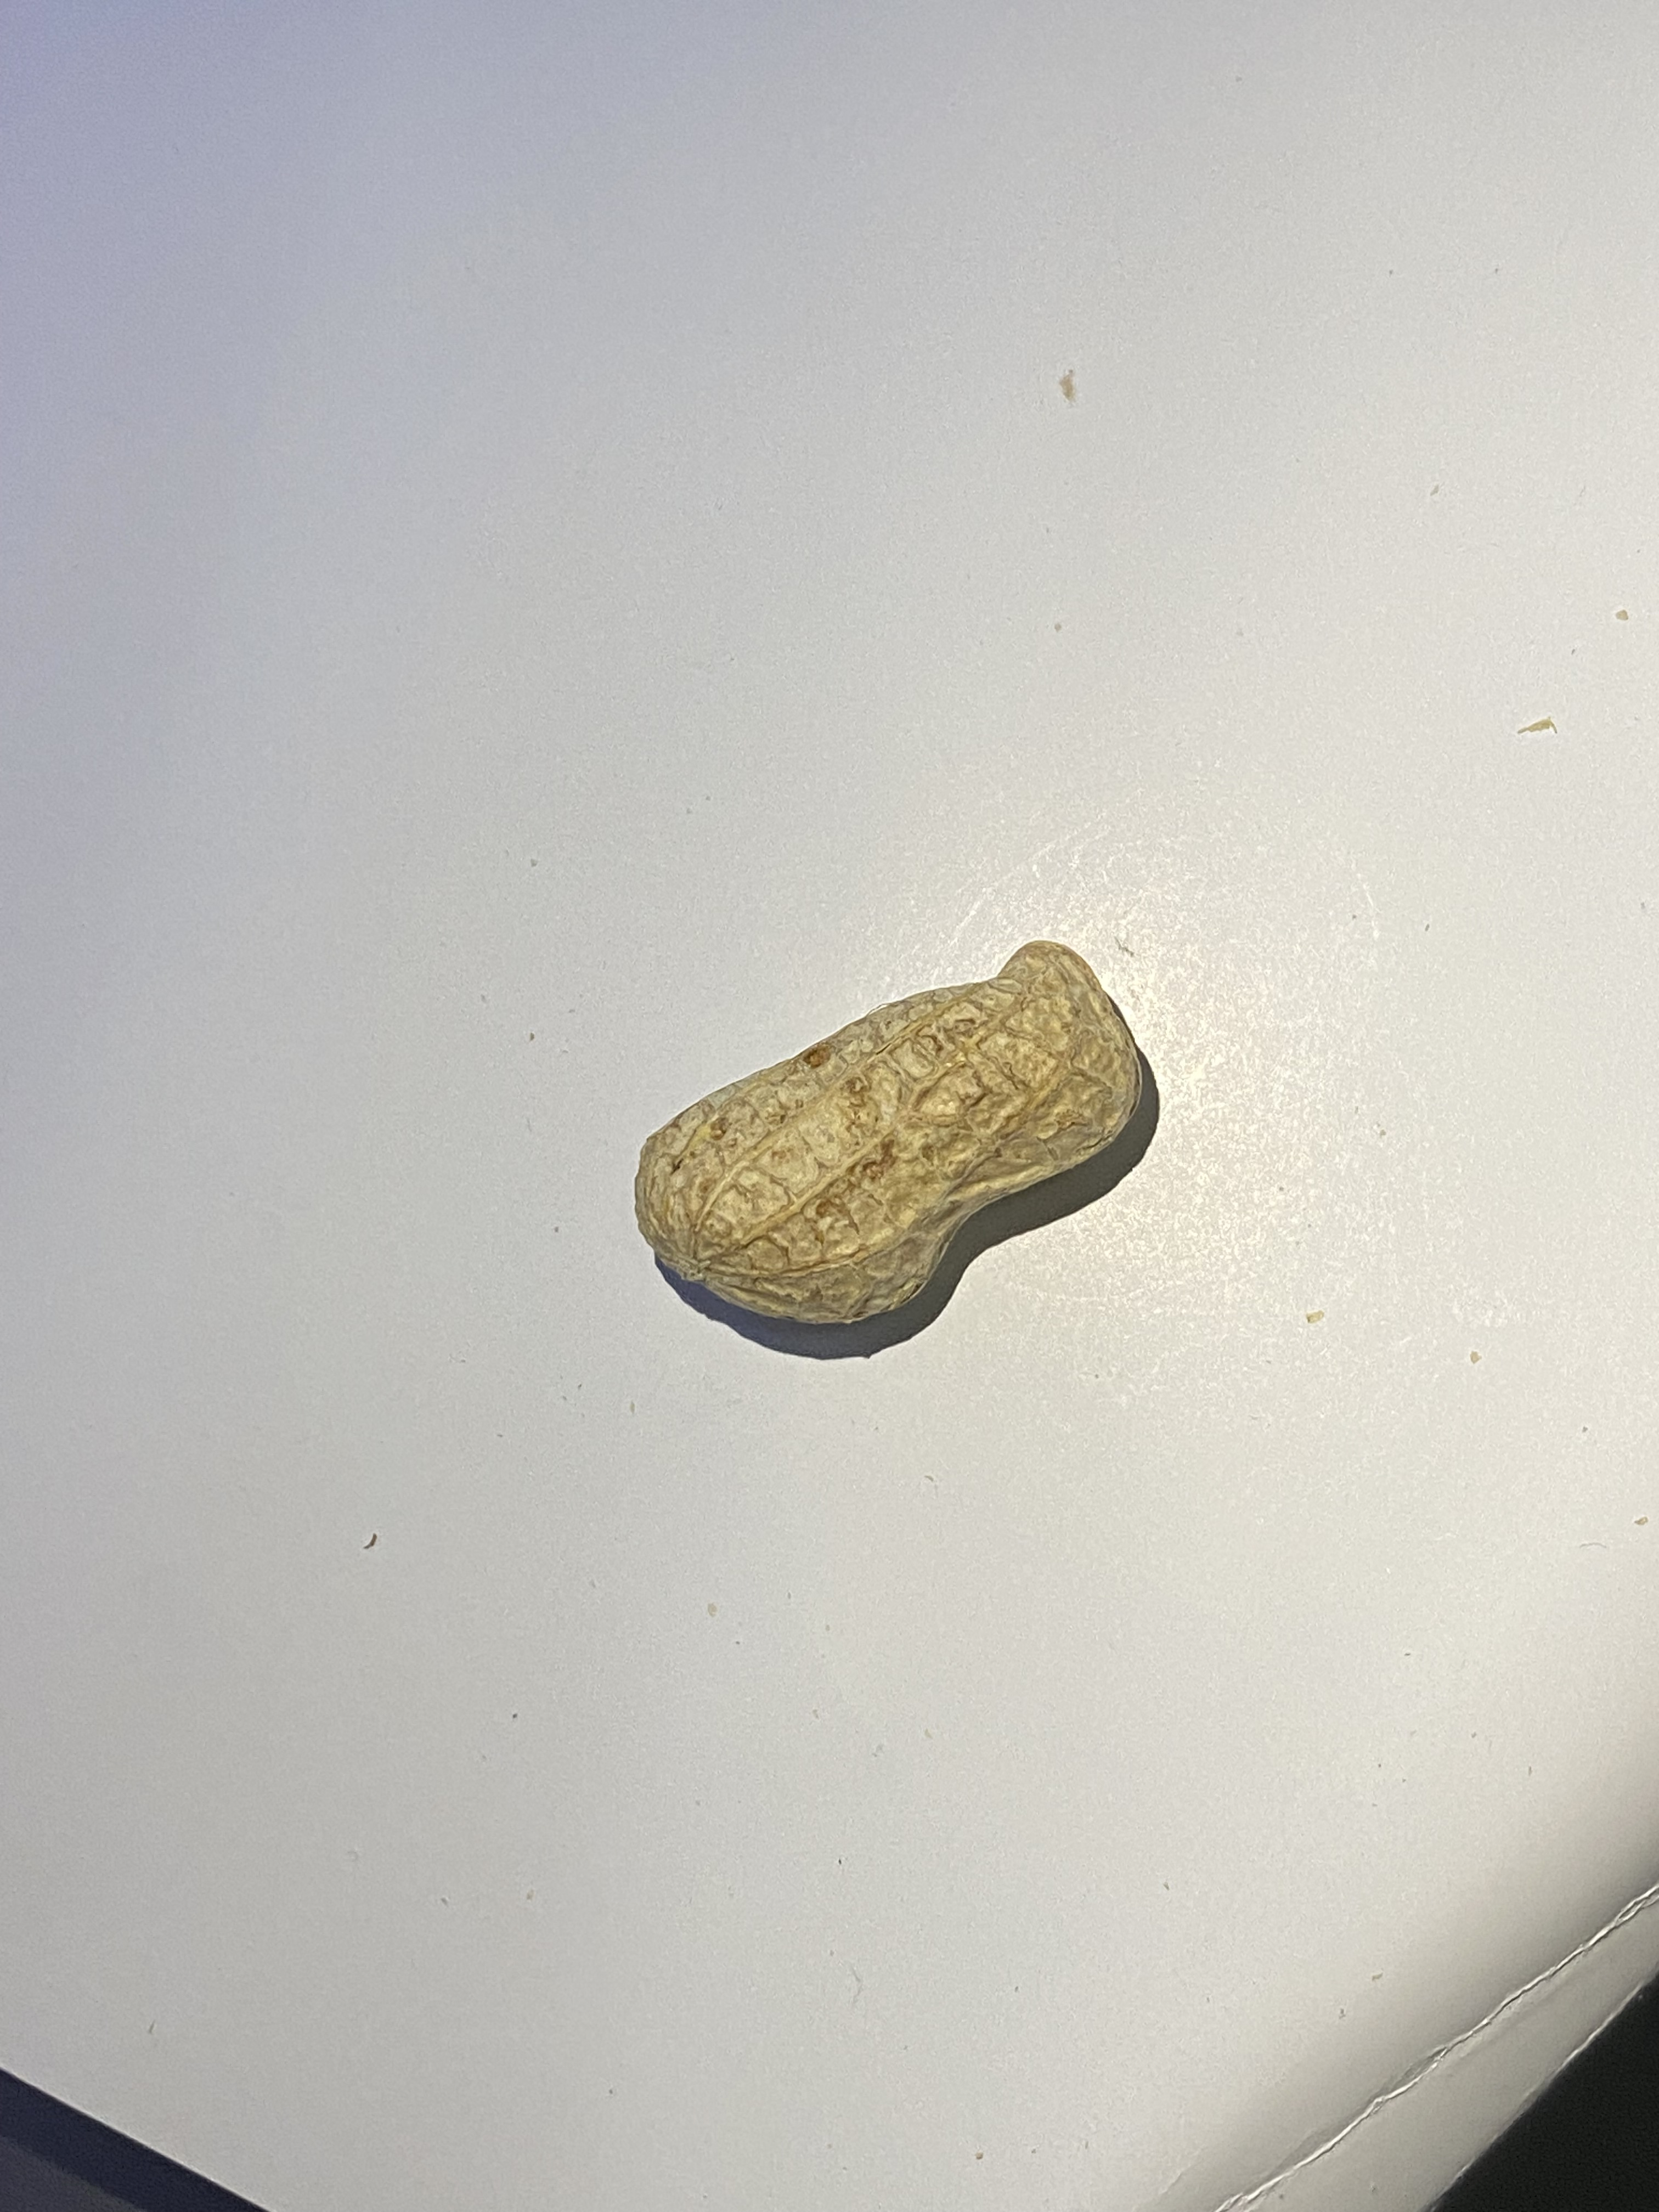kacang2: (619, 928, 1178, 1343)
